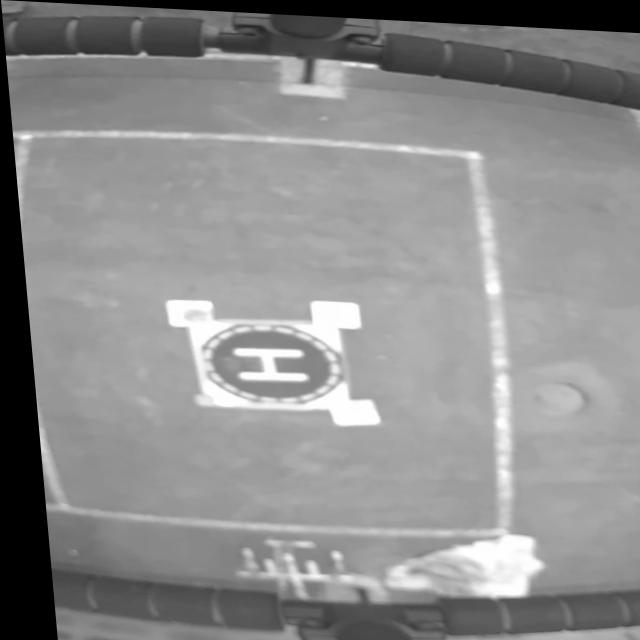Helipad: (225, 346, 303, 379)
